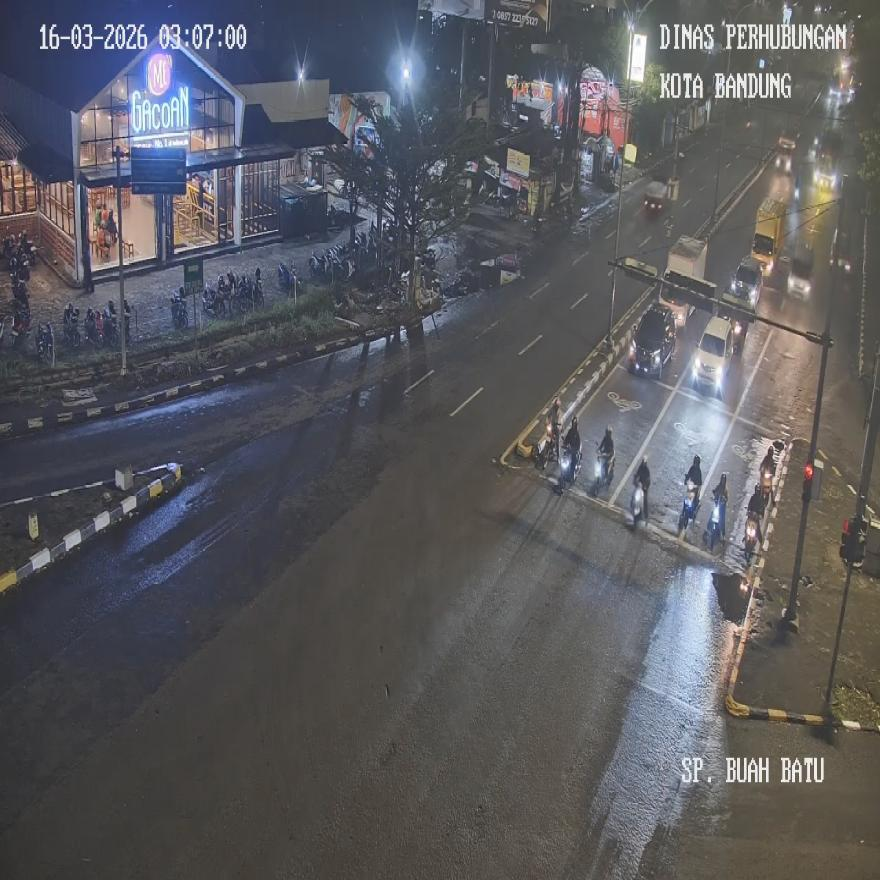Motor: (704, 490, 726, 551), (534, 419, 558, 471), (678, 478, 698, 539), (558, 440, 582, 489), (592, 444, 615, 495), (743, 509, 761, 564), (83, 306, 105, 347), (61, 303, 81, 347), (202, 282, 224, 319), (630, 479, 646, 529), (277, 262, 298, 298), (170, 287, 188, 328), (36, 322, 53, 364), (310, 251, 326, 281), (252, 270, 264, 309)
